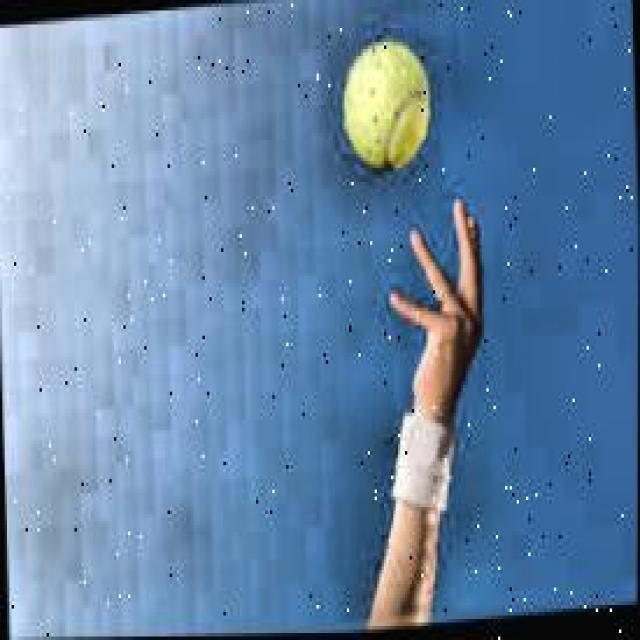tennis-ball: (335, 33, 435, 184)
